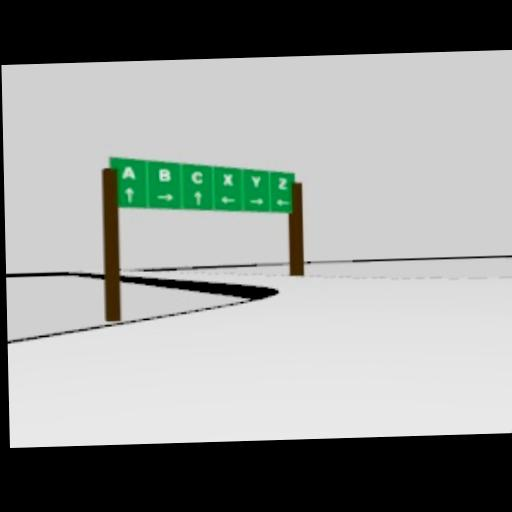A: (121, 165, 135, 178)
B: (157, 167, 169, 179)
C: (190, 170, 202, 182)
Left: (219, 193, 236, 202), (275, 196, 289, 206)
Right: (156, 192, 173, 201), (249, 196, 265, 205)
Straight: (123, 185, 134, 201), (192, 188, 201, 204)
X: (222, 170, 232, 185)
Y: (250, 173, 260, 186)
Z: (278, 176, 287, 188)
